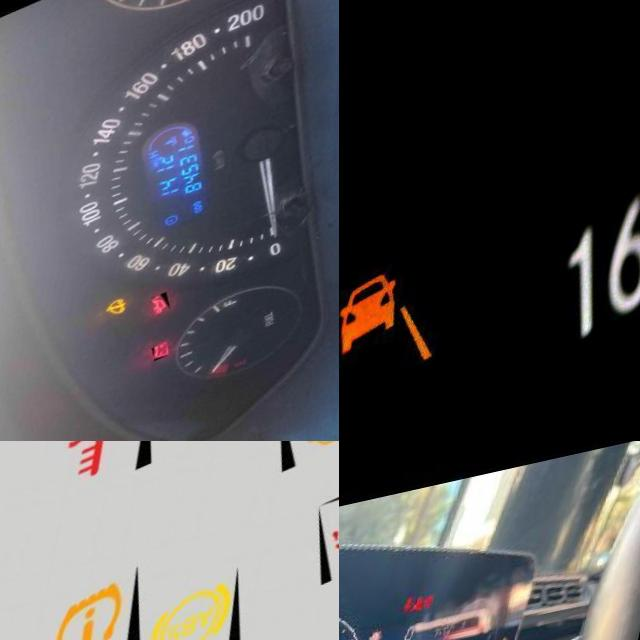Seat Belt: (414, 614, 425, 629)
